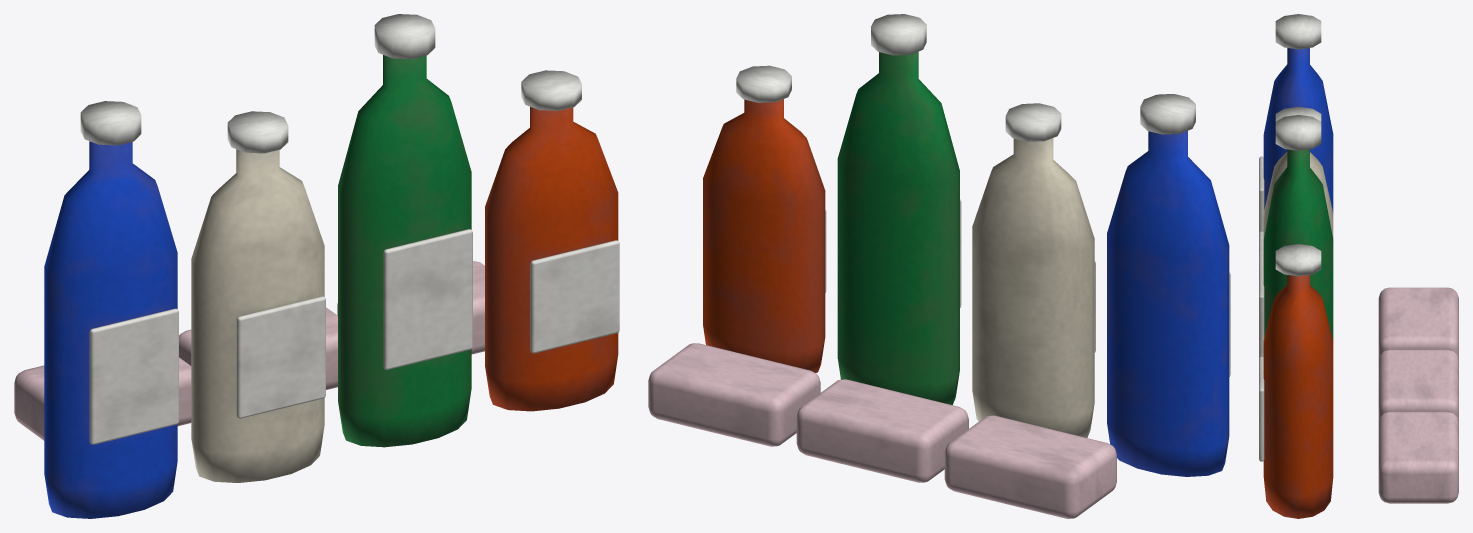
Rendered from sklep_polka_chemia.glb.
3 renders of one model, left to right at view 1: azimuth 30°, elevation 25°; view 2: azimuth 150°, elevation 25°; view 3: azimuth 270°, elevation 25°, orthographic. The views are drawn at different scales.
Parts seen in each view (by area): view 1: Chemia; view 2: Chemia; view 3: Chemia.
Boxes of the visible parts, x1=… form: Chemia: x1=14, y1=14, x2=619, y2=518; Chemia: x1=648, y1=14, x2=1230, y2=518; Chemia: x1=1259, y1=14, x2=1458, y2=518.
Bounding box in the file's own units: 0.386 × 0.26 × 0.1495.
1 material, 1 textured.
